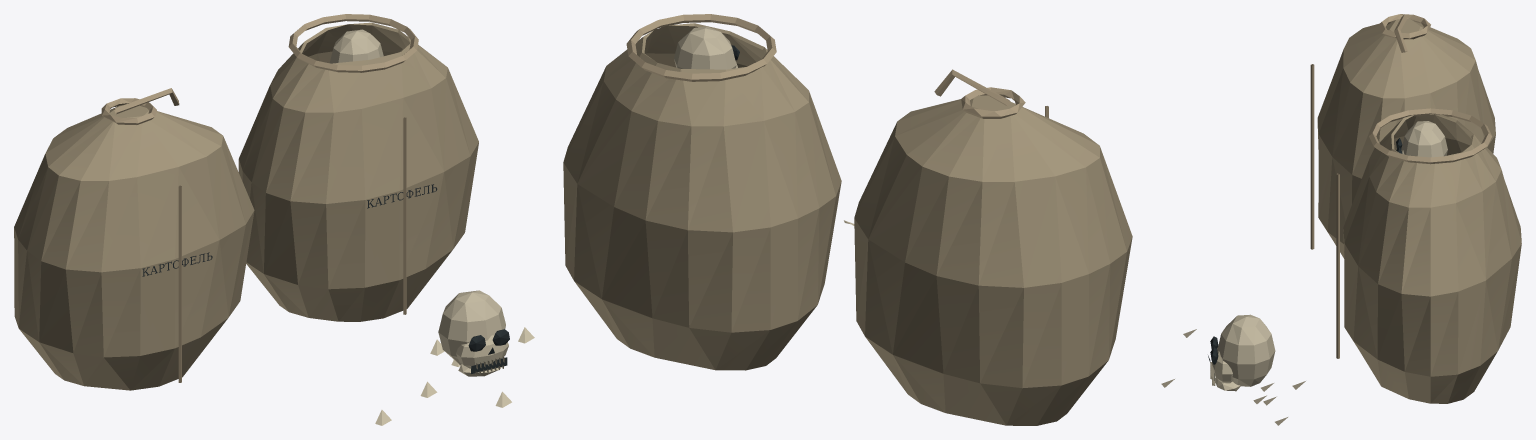
The model's file is potato_sacks.glb.
3 renders of one model, left to right at view 1: azimuth 30°, elevation 25°; view 2: azimuth 150°, elevation 25°; view 3: azimuth 270°, elevation 25°, orthographic. The views are drawn at different scales.
Visible parts, largest first — view 1: potato_sacks; view 2: potato_sacks; view 3: potato_sacks.
Part boxes in pixels (bbox=[...]): potato_sacks: bbox=[14, 14, 534, 425]; potato_sacks: bbox=[563, 14, 1132, 425]; potato_sacks: bbox=[1161, 14, 1521, 425].
Bounding box in the file's own units: 1.34 × 0.7803 × 0.9763.
